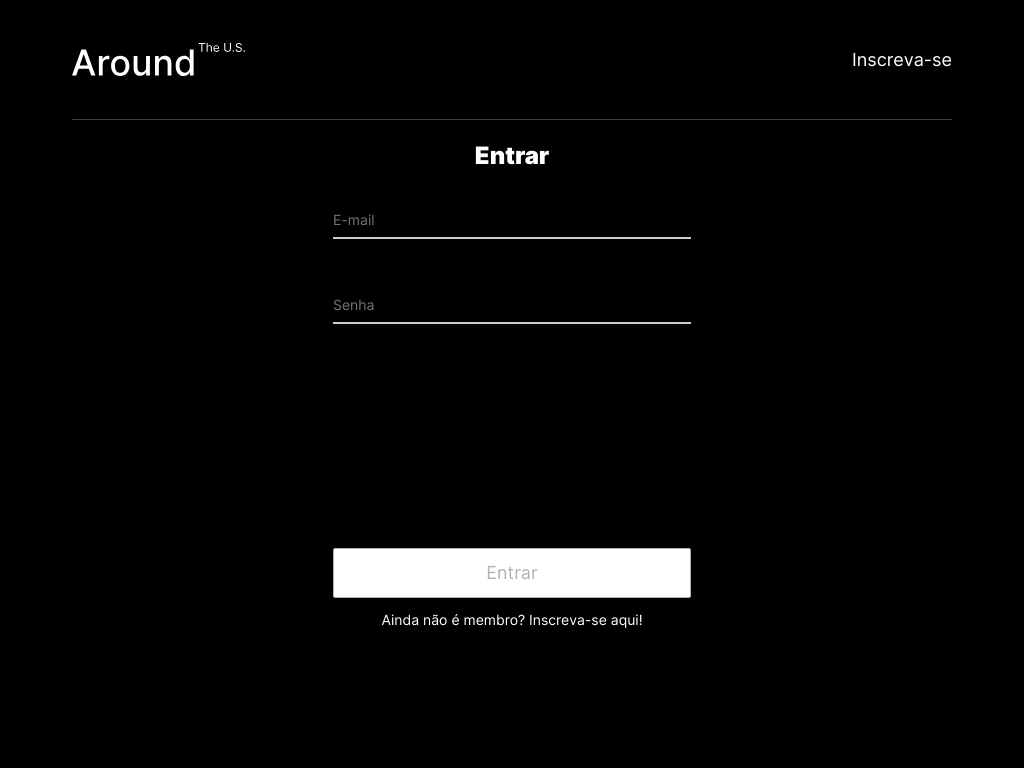
Test case: Login › mostra erro de credenciais sem buscar dados privados
Click the field with placeholder "E-mail".
click(512, 216)  # box 333,192 -> 691,239
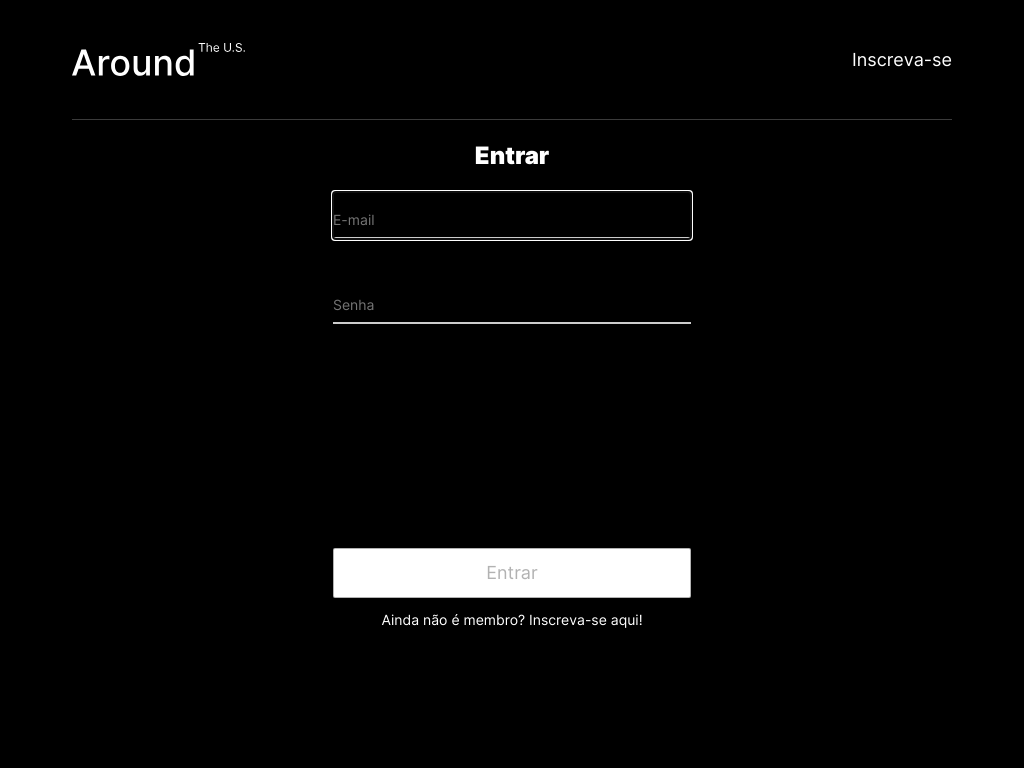
Type keys "ana@example.com"
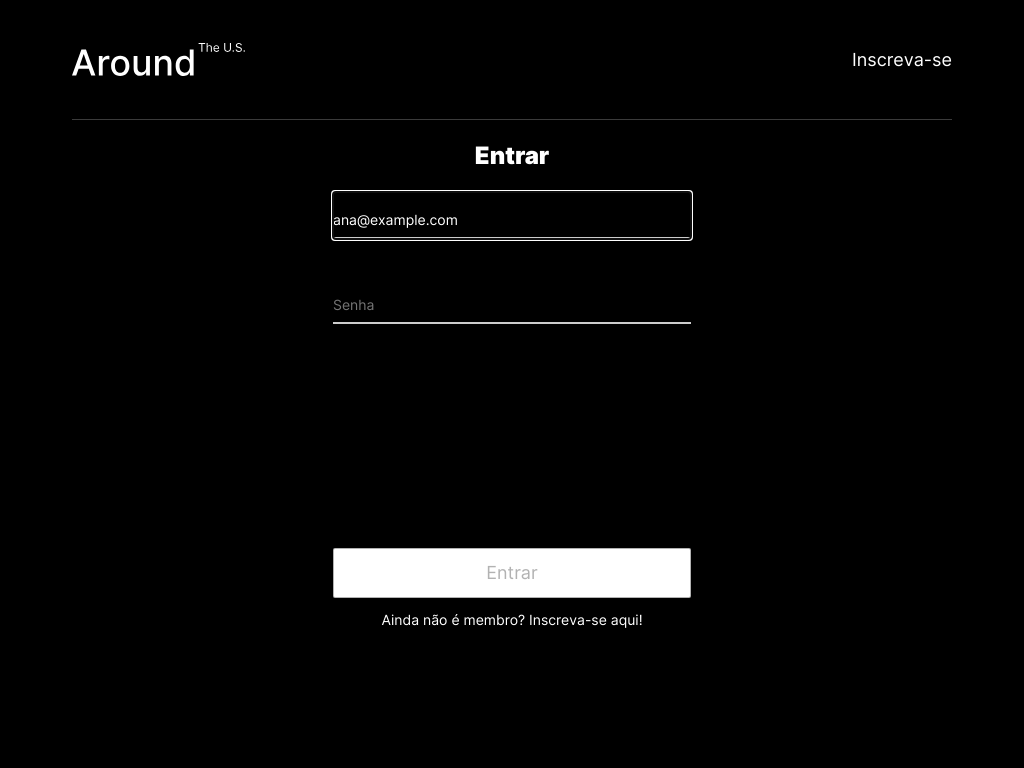
Click the password field with placeholder "Senha".
click(512, 300)  # box 333,277 -> 691,324
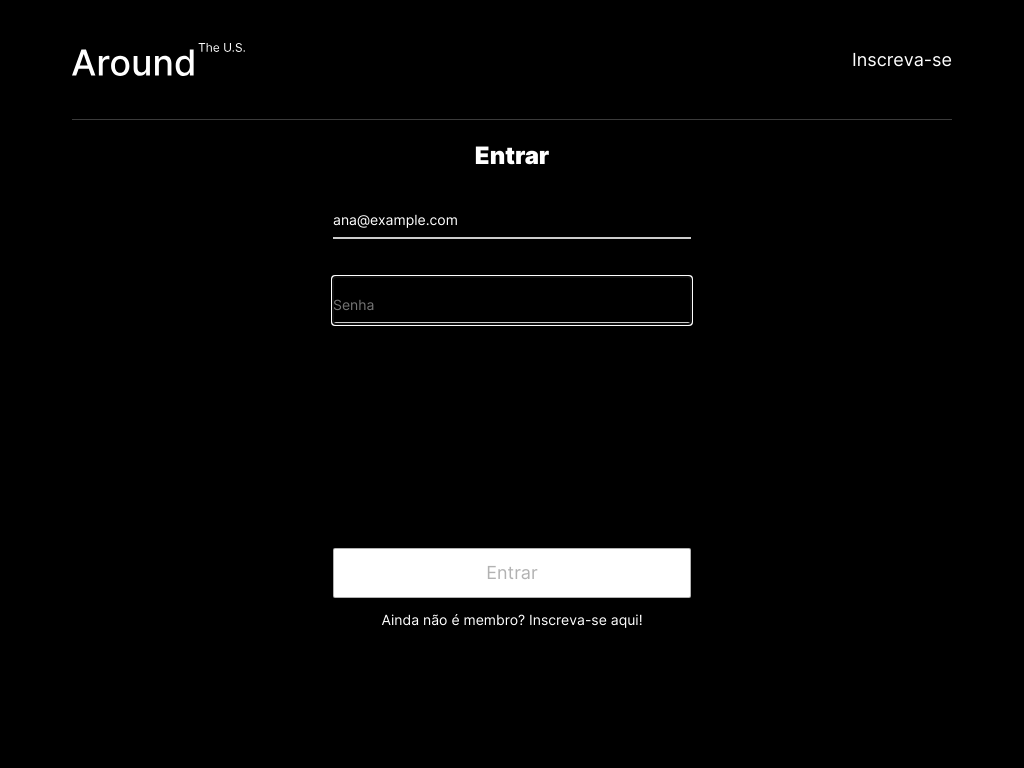
Type keys "Password123"
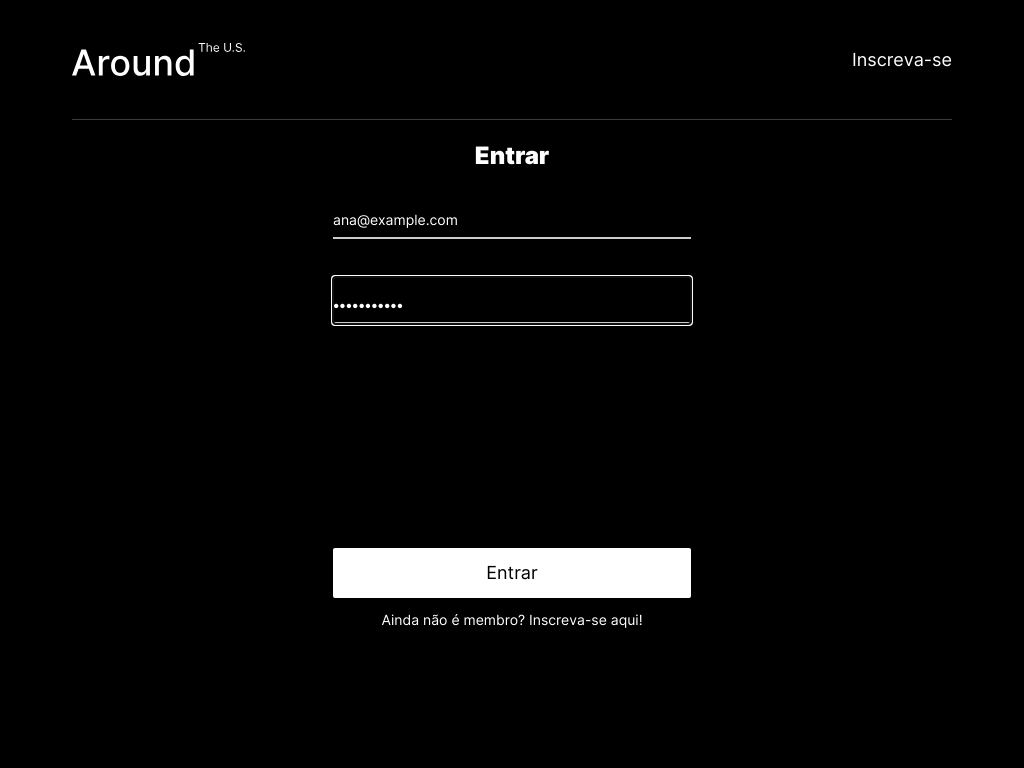
Click the button "Entrar".
click(512, 573)  # box 333,548 -> 691,598
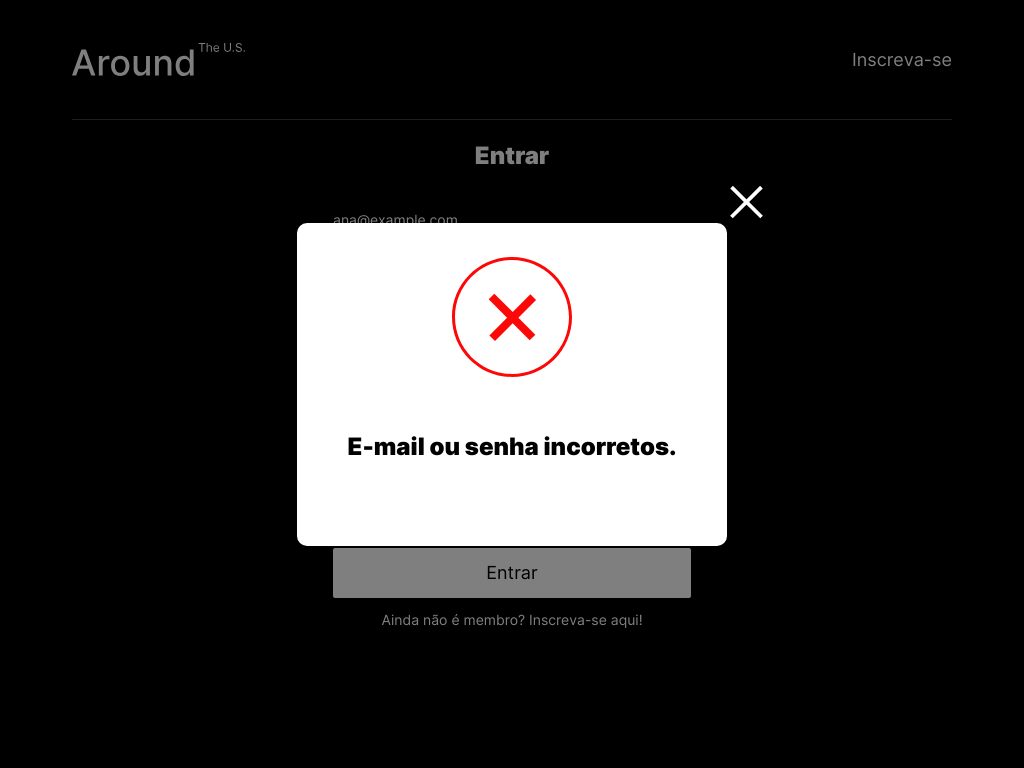
Result: the button "Entrar" is enabled at 333,548 -> 691,598
Result: the heading "E-mail ou senha incorretos." is shown at 348,432 -> 676,460
